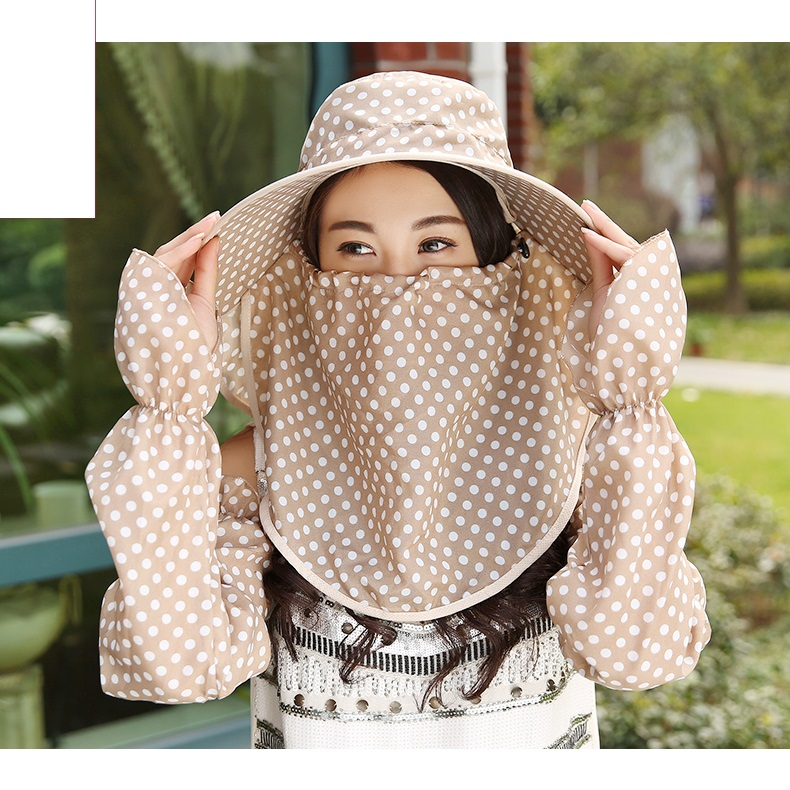face_mask: (310, 160, 488, 386)
